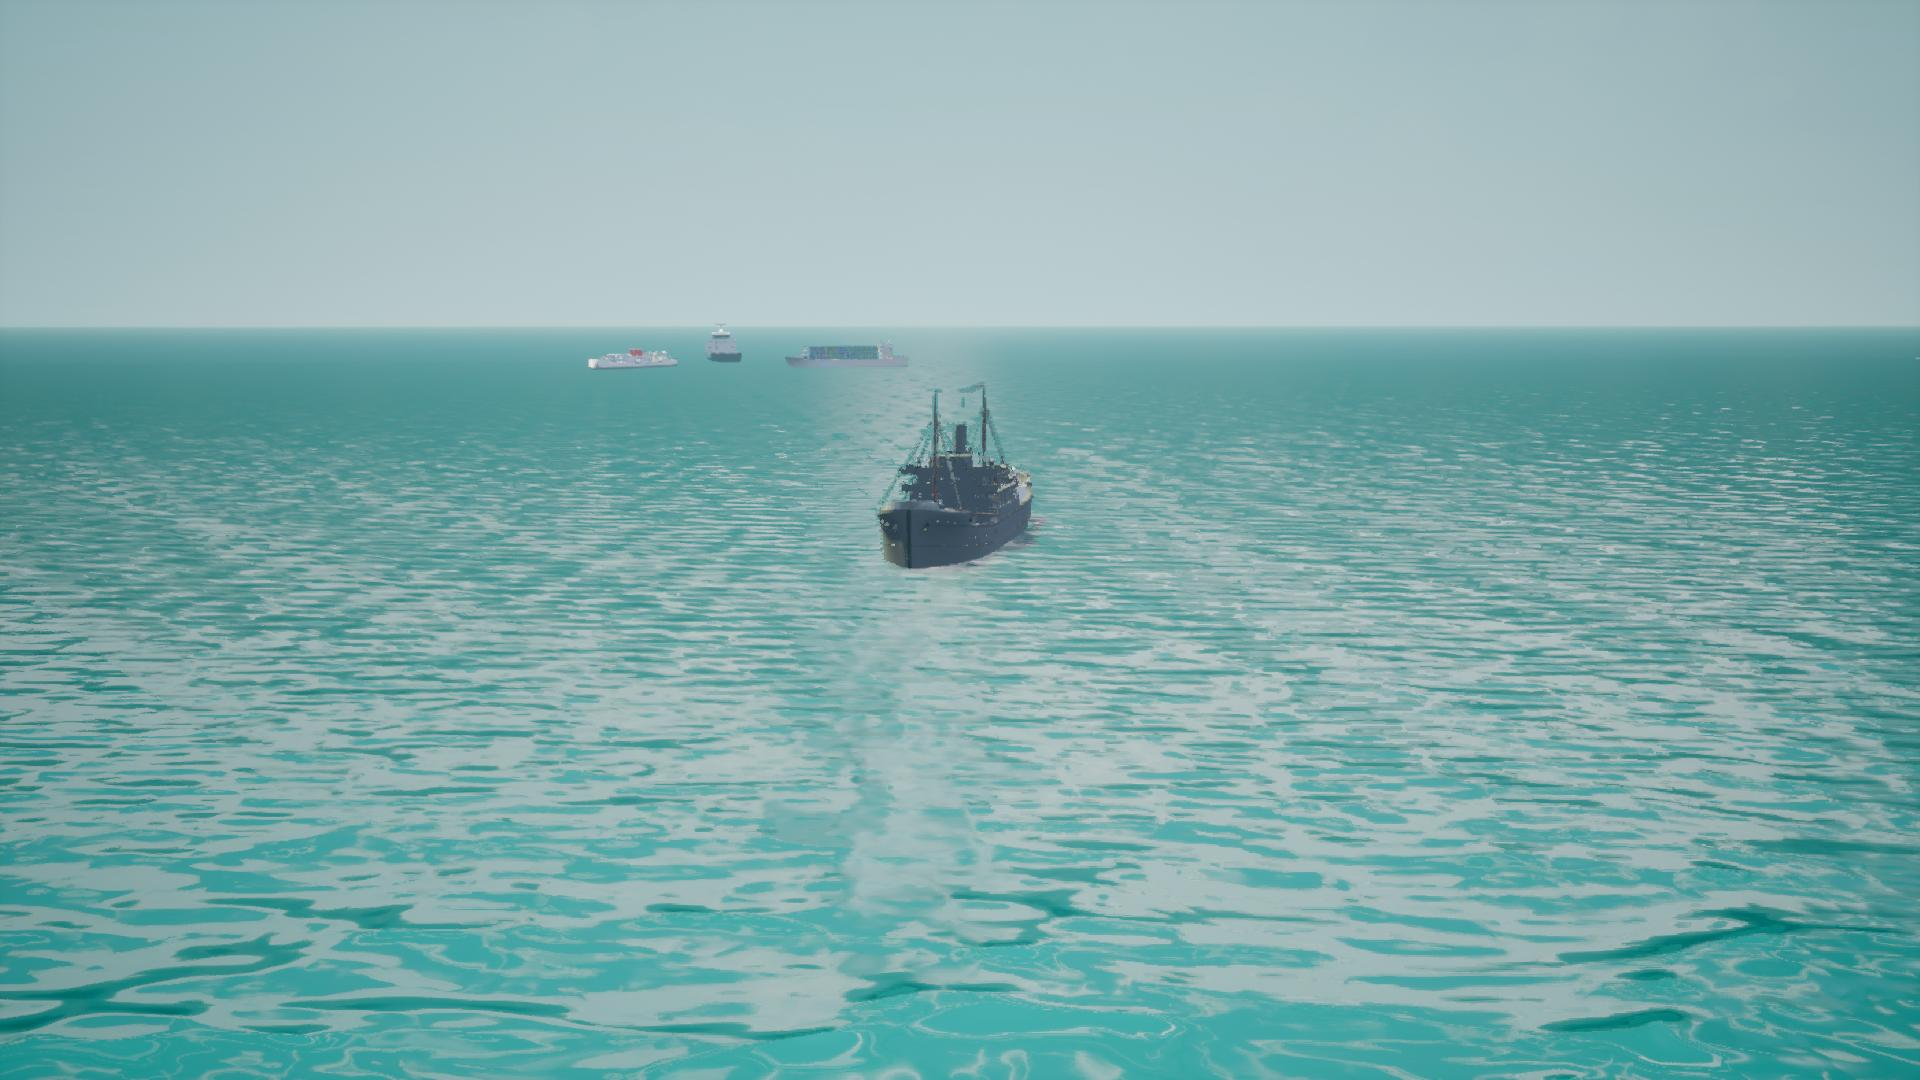Fishing Boat: (870, 385, 1038, 572), (787, 342, 914, 371), (582, 347, 679, 372)
